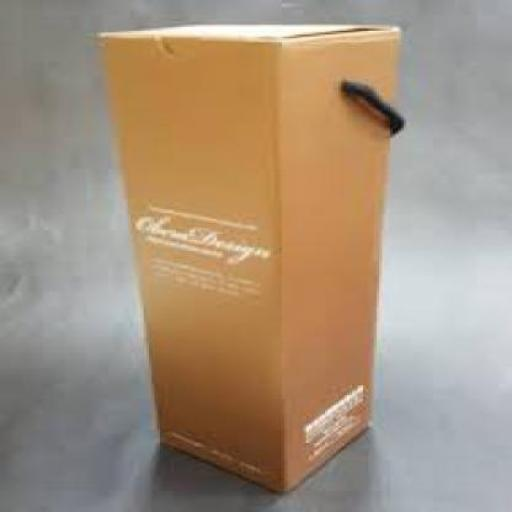cardboard: (97, 21, 399, 493)
